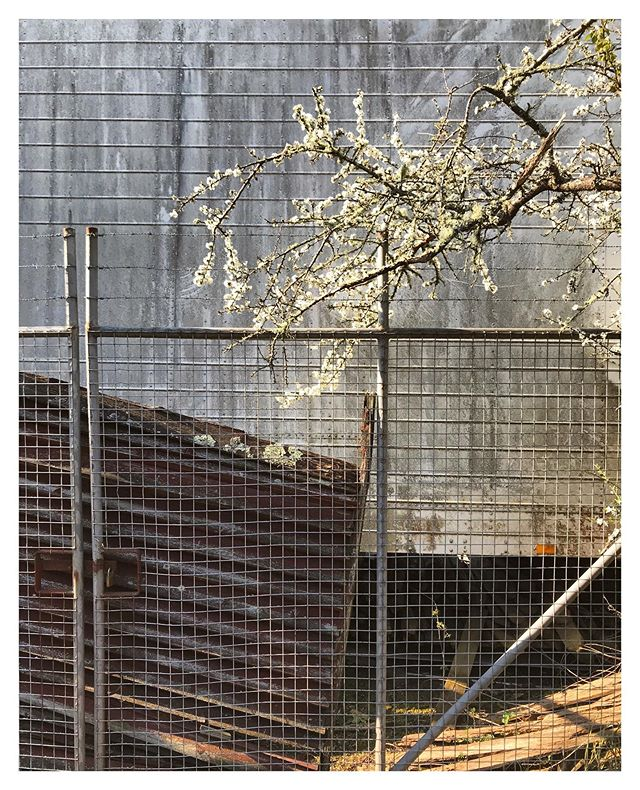tree: (250, 1, 640, 356)
